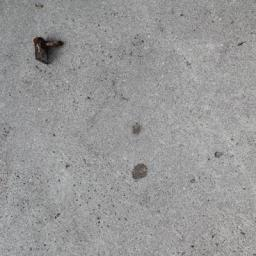FOD: (33, 34, 67, 70)
